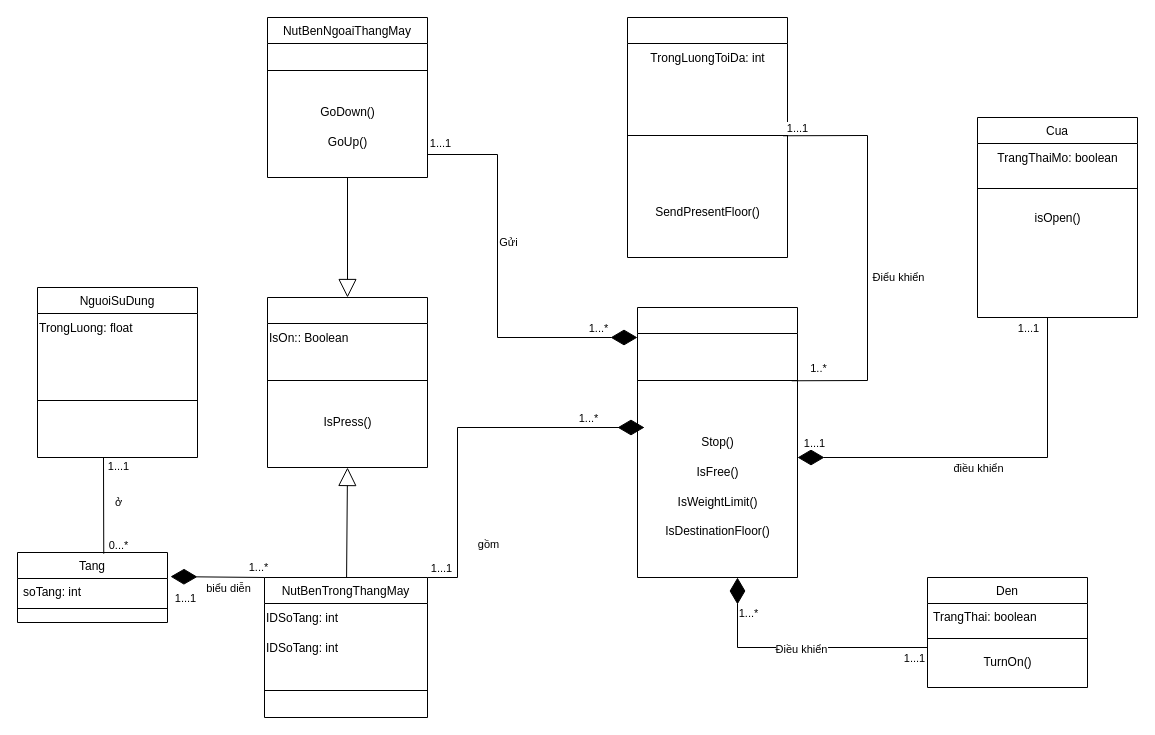
Image size: 1155x735. Some labels were removed from this diagram. The box of each missing label's shape, as (x1, y1, x2, y2) in pixels:
BoDieuKhienTrungTam: (636, 306, 798, 578)
Nut: (266, 296, 428, 468)
ThangMay: (626, 16, 788, 258)
